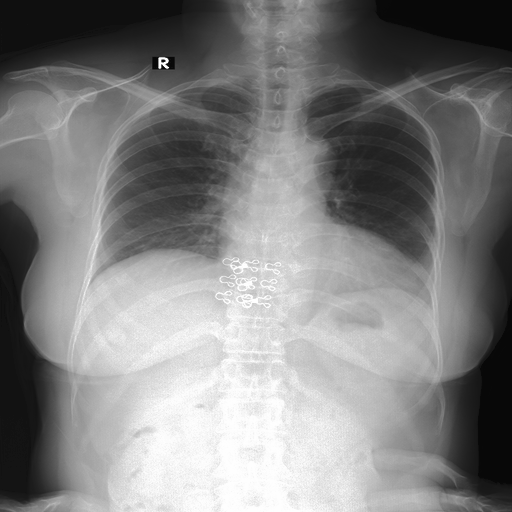Consolidation: (286, 133, 333, 186)
Nodule/Mass: (216, 238, 418, 298)
